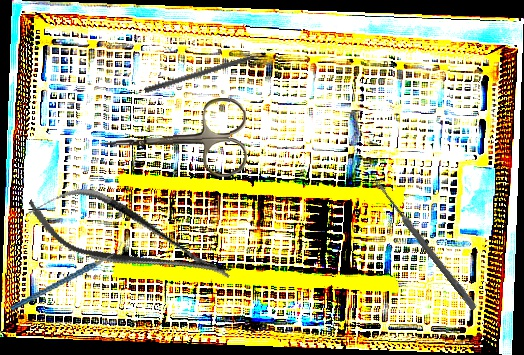Chopper: (2, 240, 132, 312)
Iris Scissors: (98, 96, 248, 183)
Micro Scissor: (18, 170, 241, 308)
Pusher: (143, 48, 276, 95)
Surgical Spoon: (369, 175, 479, 311)
